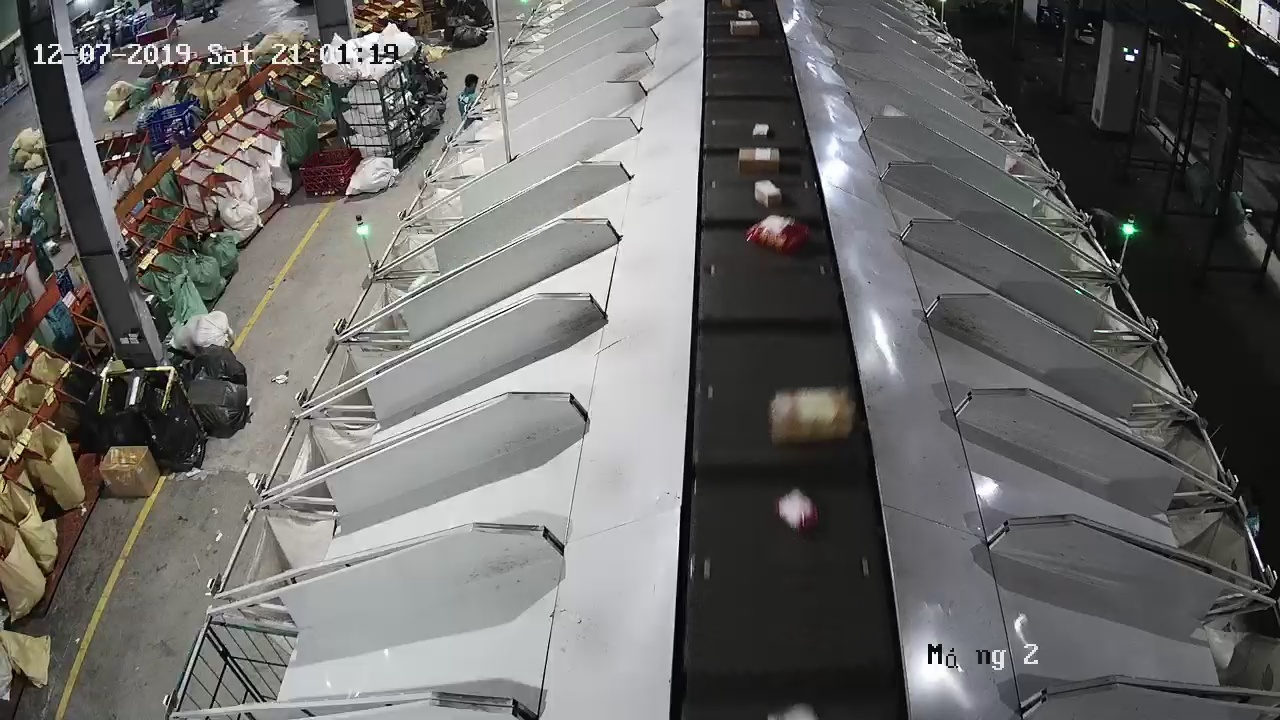parcel: (767, 384, 858, 447), (743, 213, 812, 256)
